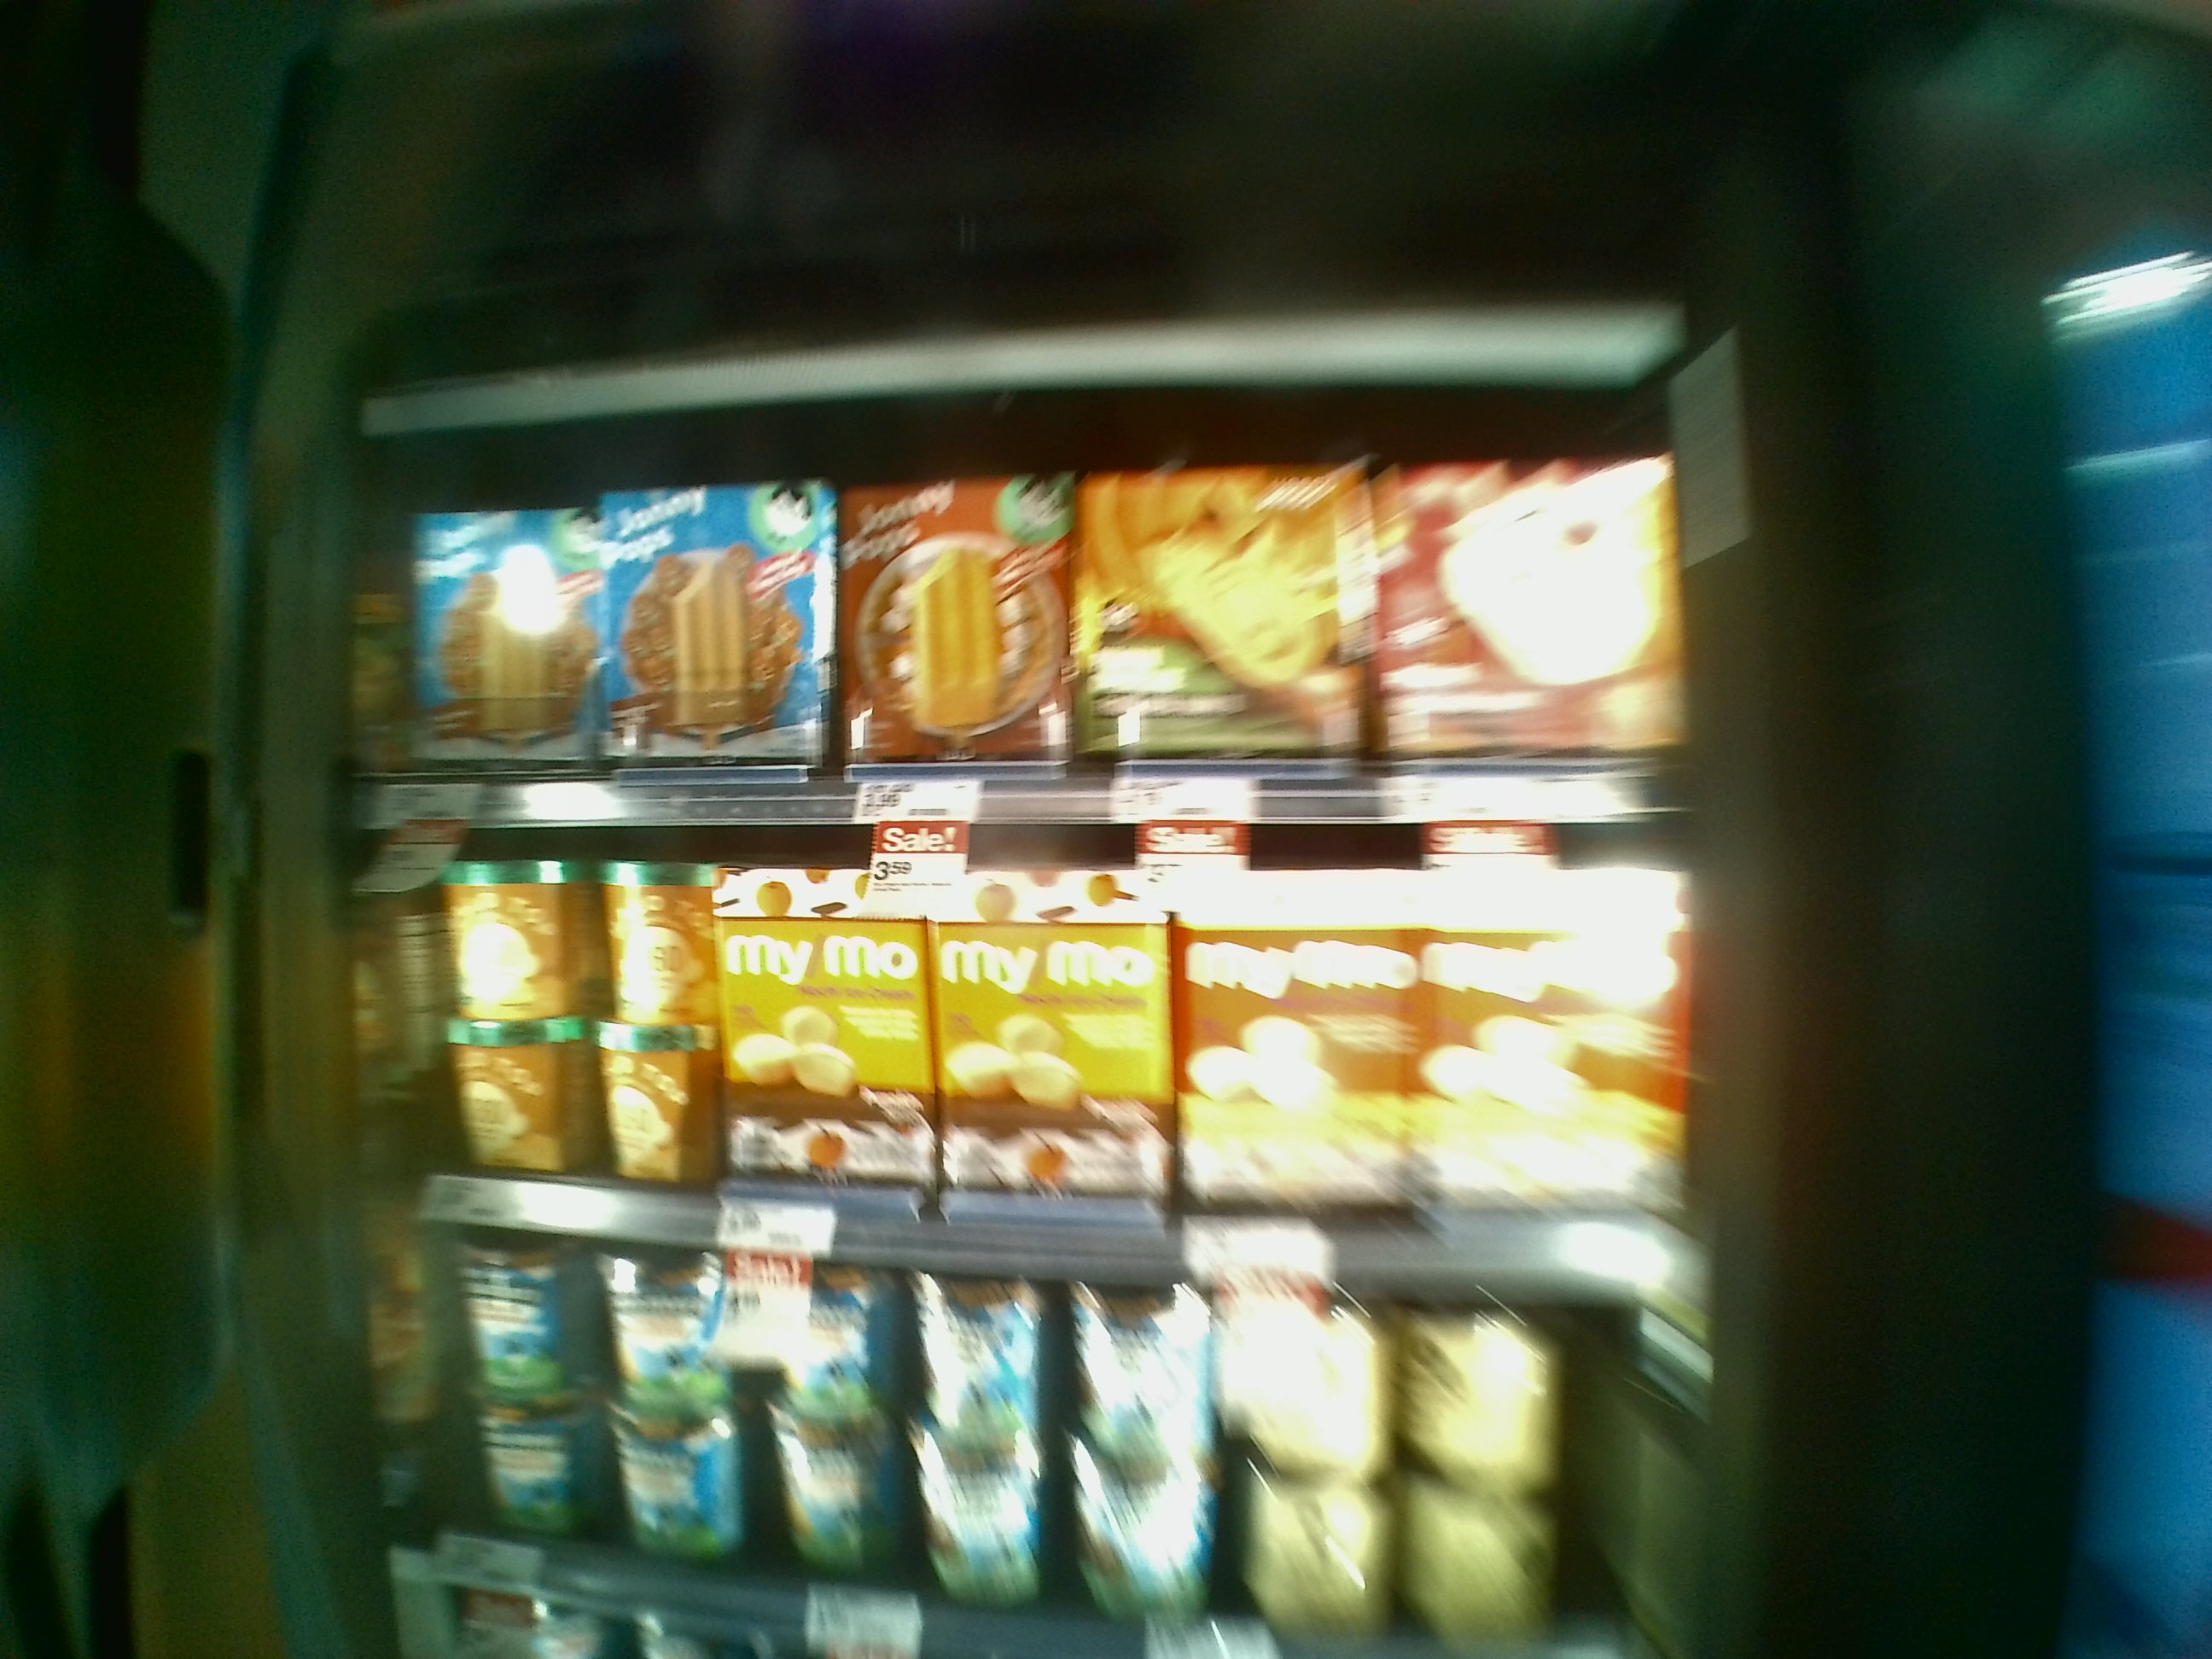shelf: (334, 779, 1710, 1288), (355, 416, 1677, 812)
